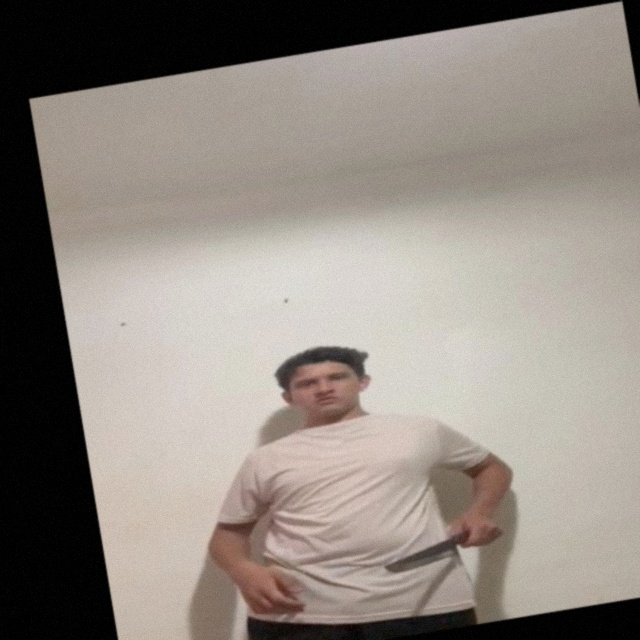Sharp-Object: (382, 536, 457, 576)
